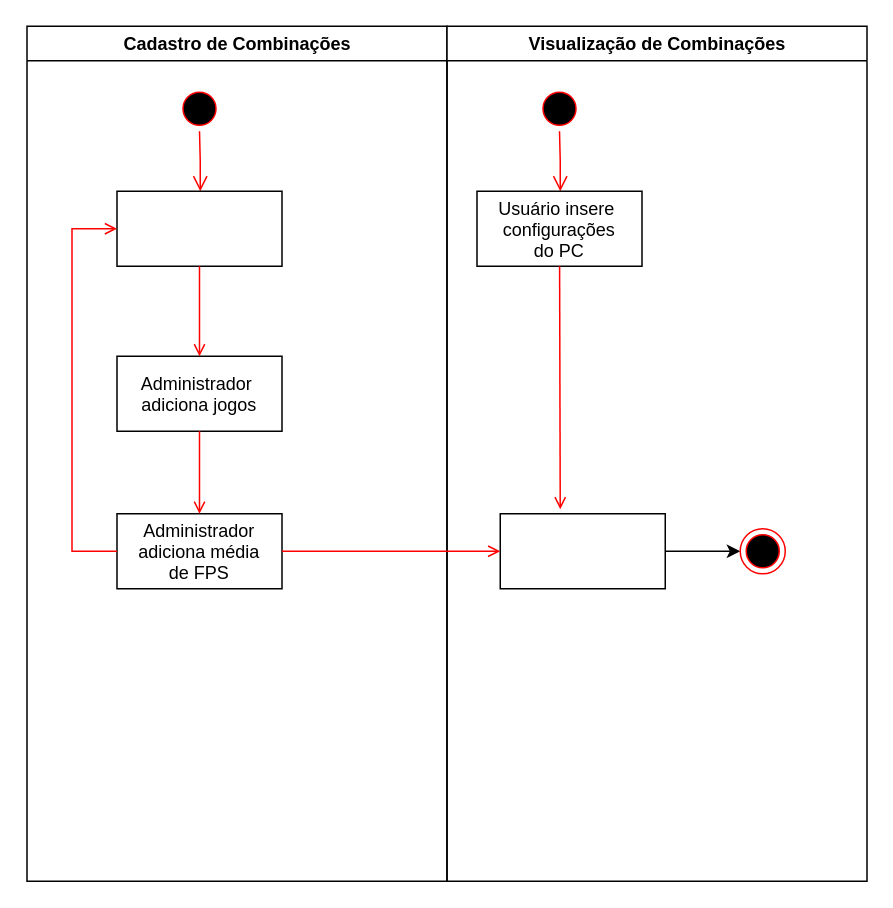
Image size: 893x908. Some labels were removed from this diagram. Here are the shapes that lost their labels. From the top down, the box of each, then its label:
(116, 190, 282, 266): Administrador adiciona peças
(499, 512, 665, 589): Visualização da média de FPS
